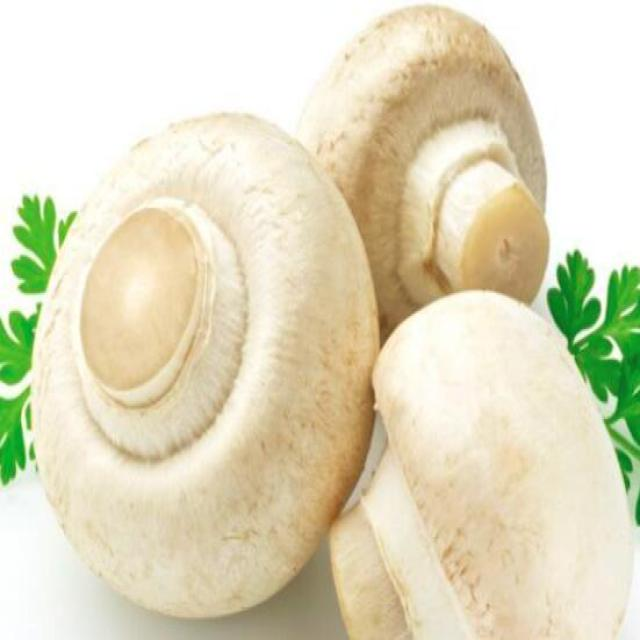Agaricus bisporus: (36, 116, 374, 619), (334, 288, 636, 640), (298, 7, 550, 313)
